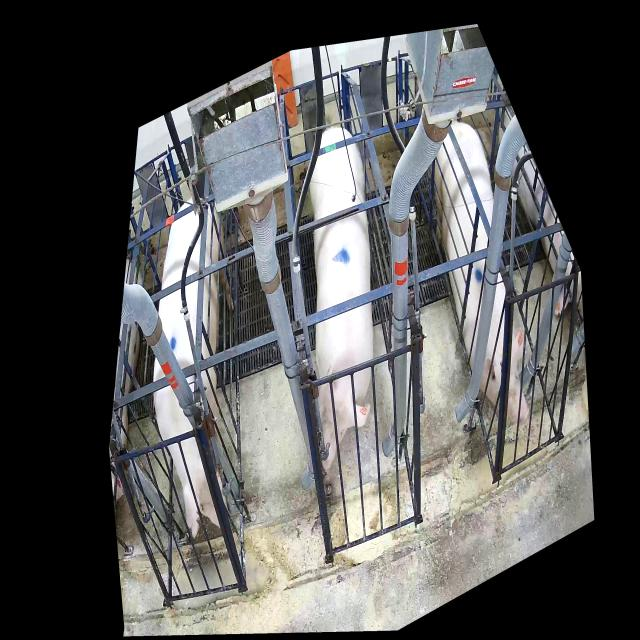pig: (429, 122, 528, 425), (153, 198, 235, 538), (310, 128, 374, 469)
